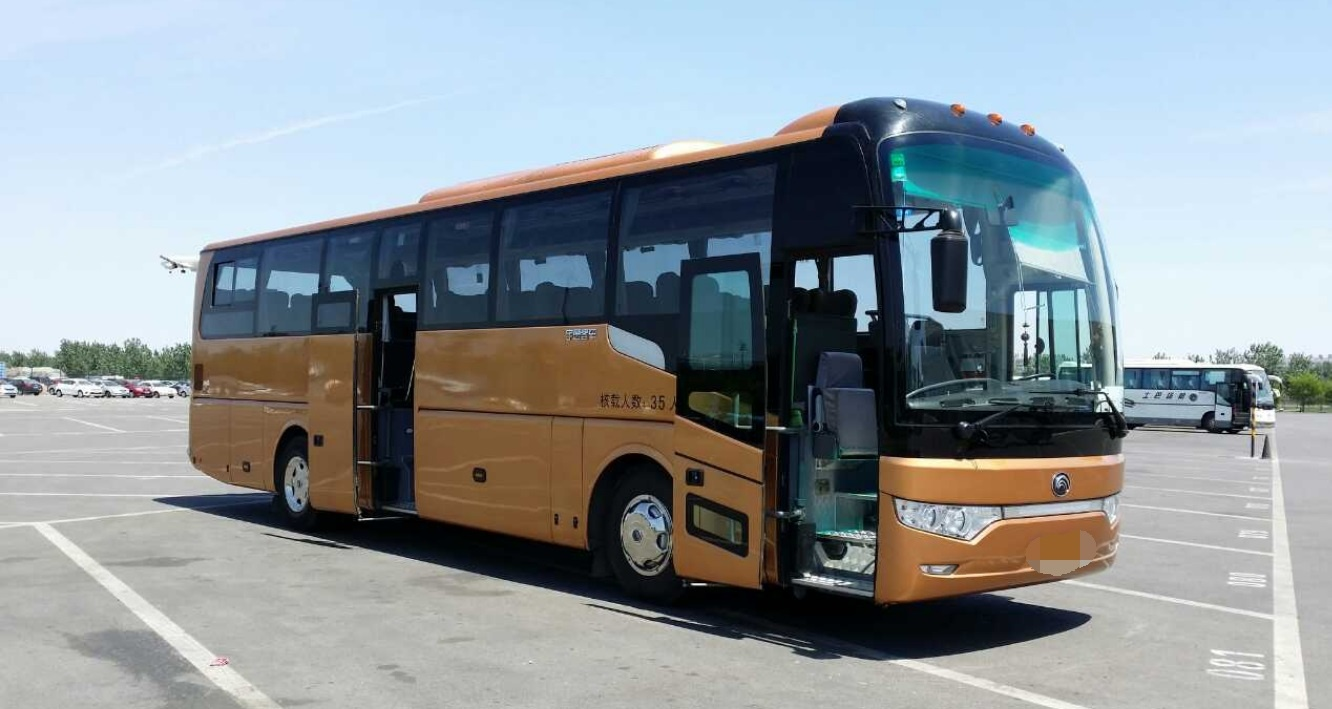bus: (168, 87, 1141, 619)
